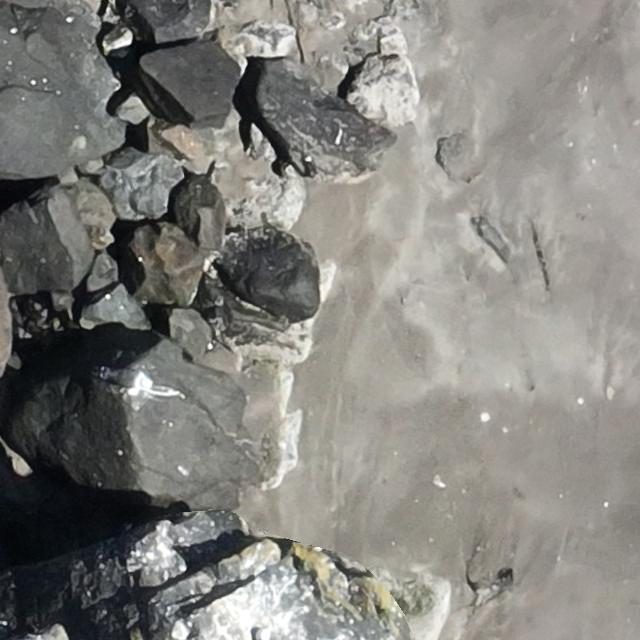umineko: (102, 365, 153, 391)
